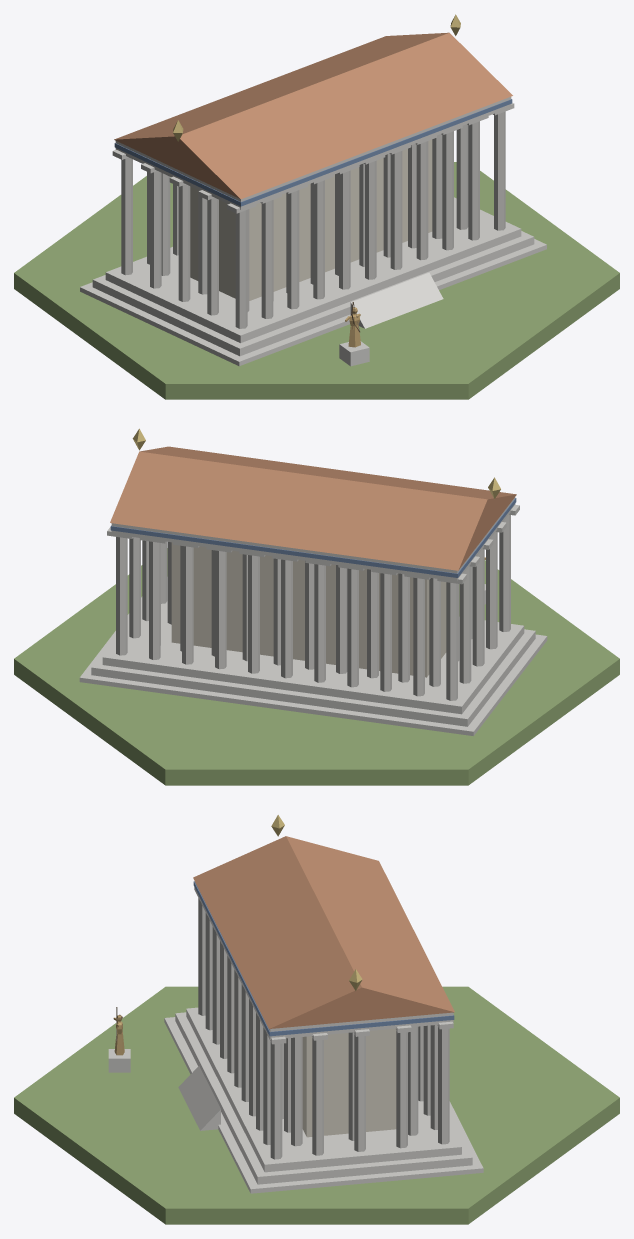
File: temple-of-artemis.glb
The picture shows the model from 3 angles, top to bottom: view 1: azimuth 30°, elevation 25°; view 2: azimuth 150°, elevation 25°; view 3: azimuth 270°, elevation 25°; orthographic projection.
Visible parts, largest first — view 1: LOD0; view 2: LOD0; view 3: LOD0.
Boxes of the visible parts, bbox=[...] form: LOD0: bbox=[14, 14, 619, 399]; LOD0: bbox=[14, 428, 619, 785]; LOD0: bbox=[14, 815, 619, 1224].
Size of what is drawn, in the model's own units: 1.49 by 0.695 by 1.72.
